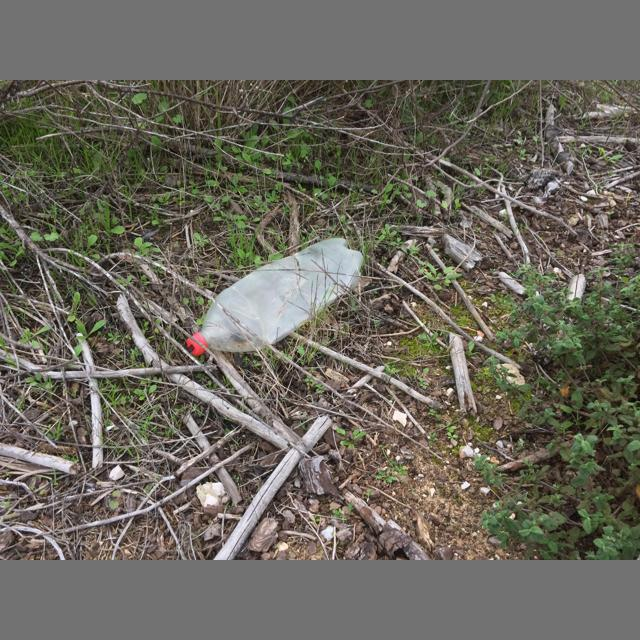litter: (186, 238, 364, 356), (187, 335, 209, 356)
